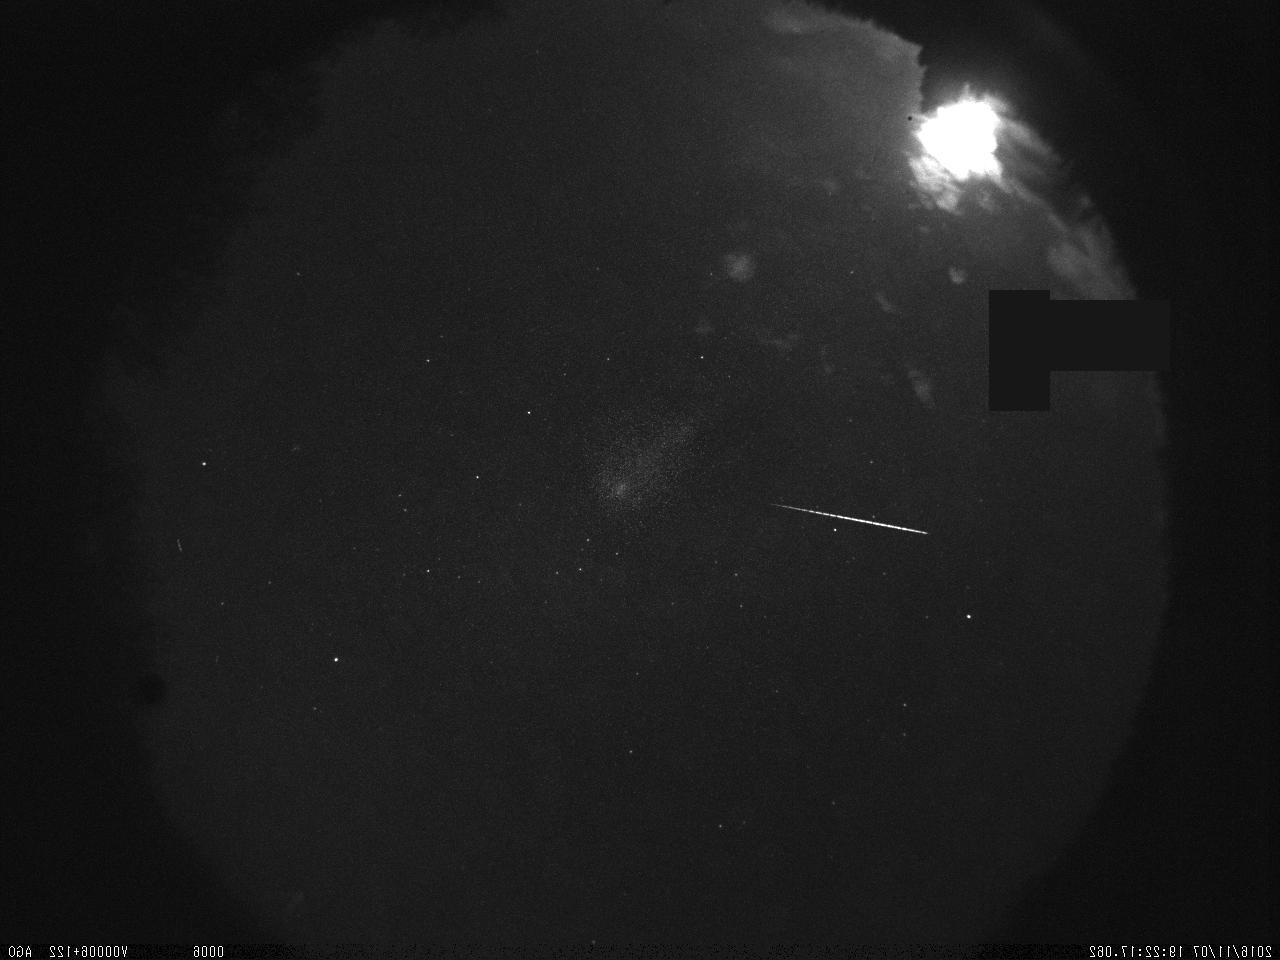meteor: (730, 491, 953, 550)
